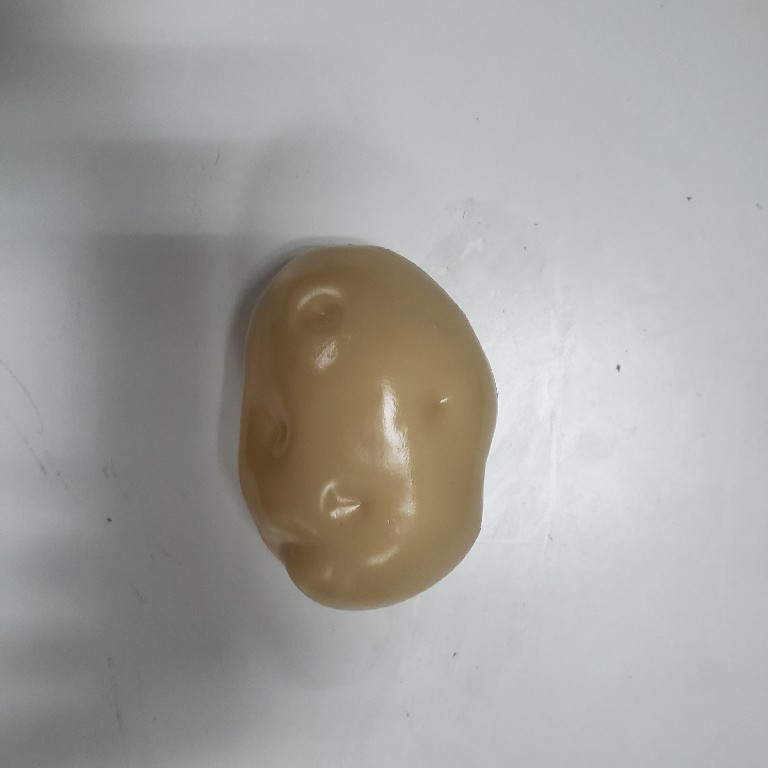fruit_potato: (228, 239, 504, 614)
